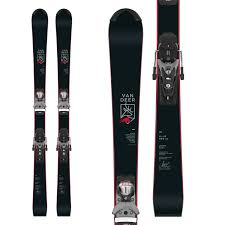skis: (107, 1, 185, 225), (30, 8, 73, 219)
